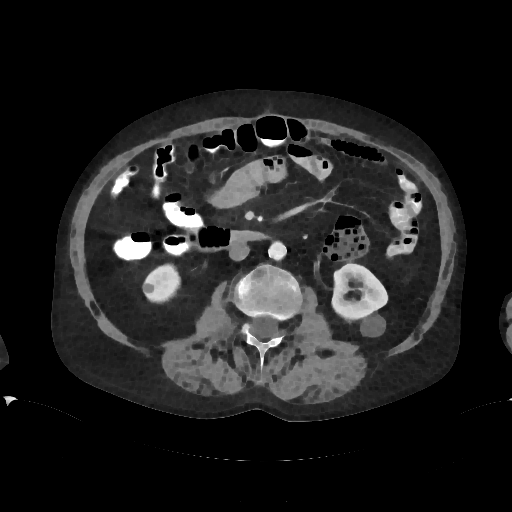Lesion: (141, 282, 157, 295)
